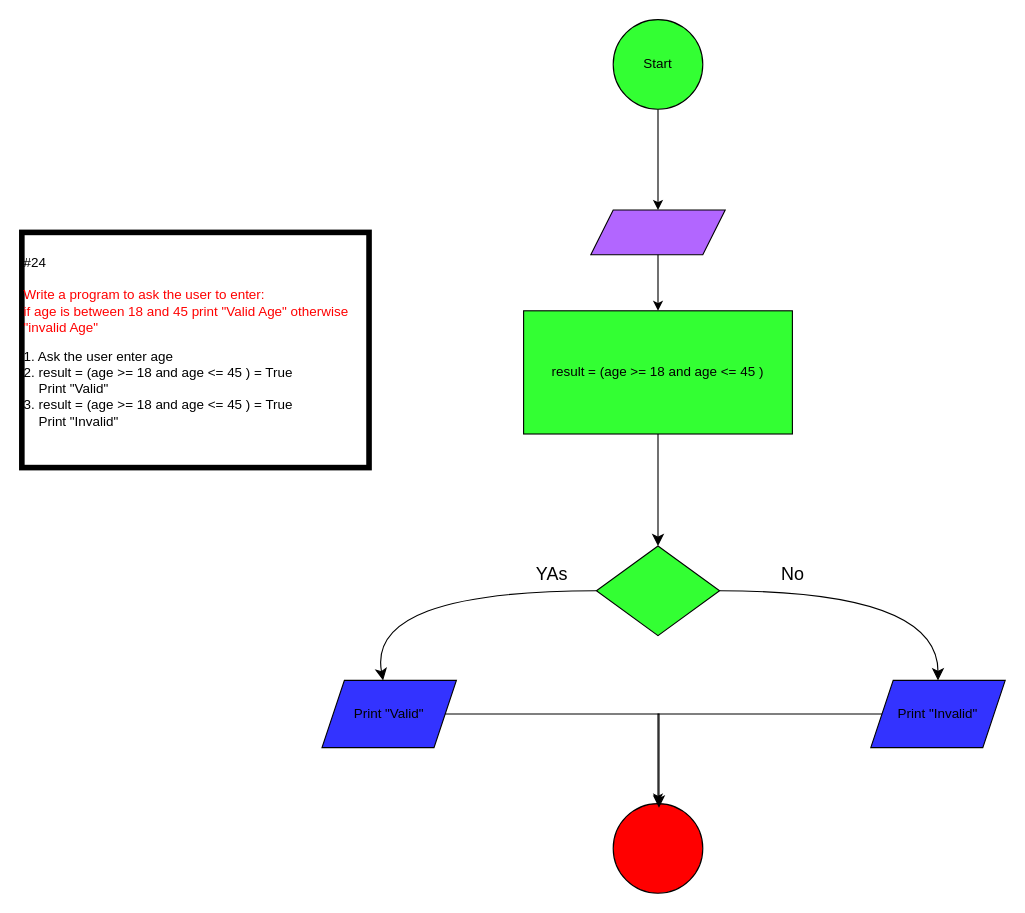
Image size: 1025x913. Some labels were removed from this diagram. Here are the shapes that lost their labels. From the top down, the centre of each, then its label:
At (x=657, y=232): "Read age".
At (x=657, y=590): "result = True".
At (x=657, y=847): "End".
